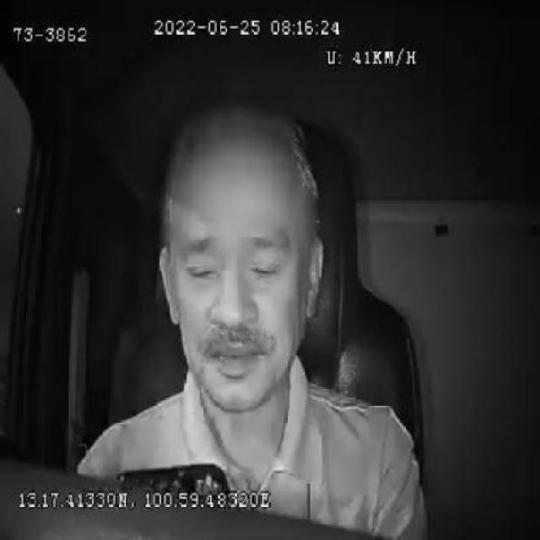phone: (118, 459, 230, 489)
